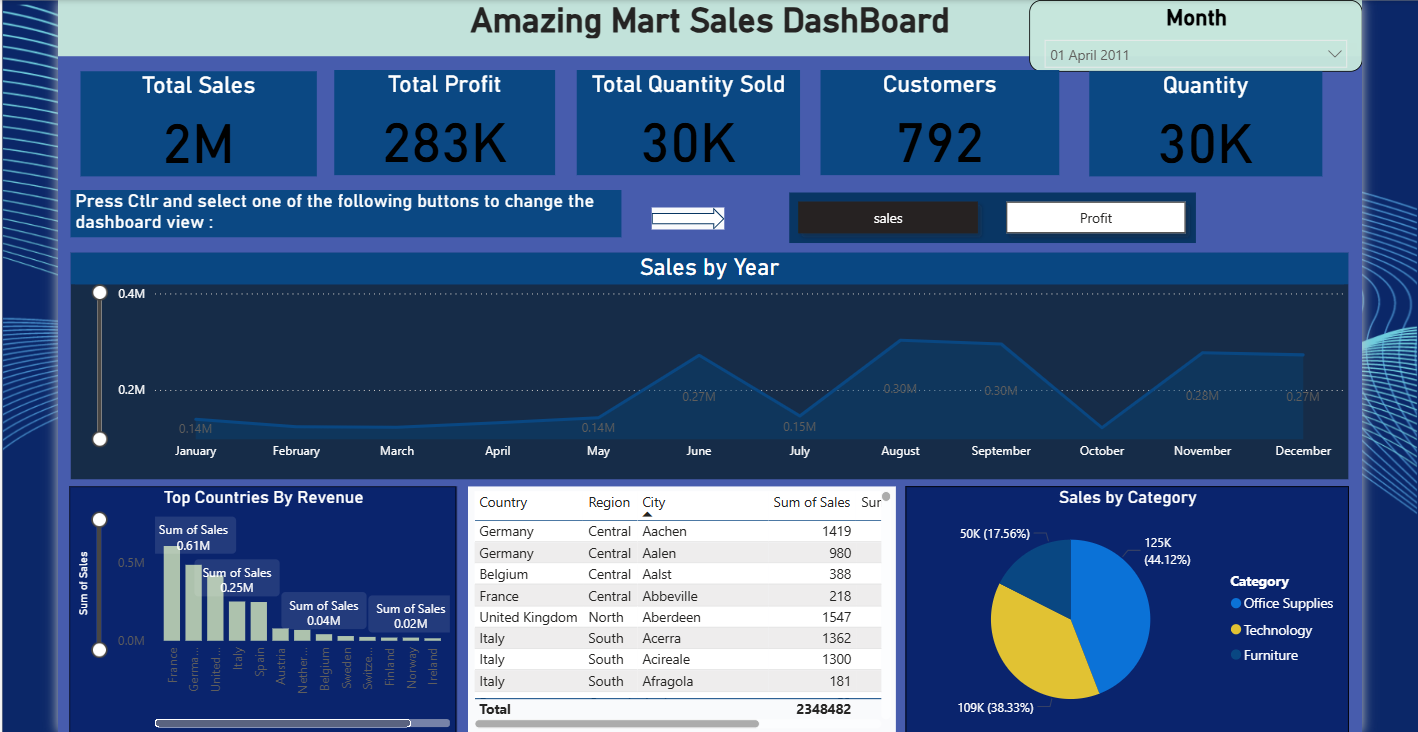

The dashboard page shown, as its layout file describes it:
{"tool":"powerbi","page":{"name":"sales","canvas":[1280,720],"ordinal":0},"visuals":[{"type":"textbox","title":"Amazing Mart Sales DashBoard ","box":[0,0,1280.3,54.9],"z":0},{"type":"slicer","title":"Month","fields":{"Values":["SalesTargets.Month of Order Date"]},"box":[952.9,0,327.1,70],"z":1000},{"type":"card","title":"Total Sales","fields":{"Values":["OrderBreakdown.Sales"]},"box":[22,70,231.9,102.9],"z":2000},{"type":"card","title":"Total Profit","fields":{"Values":["OrderBreakdown.Profit"]},"box":[271.7,68.6,216.8,102.9],"z":3000},{"type":"card","title":"Total Quantity Sold","fields":{"Values":["OrderBreakdown.Quantity"]},"box":[509.1,68.6,219.6,102.9],"z":4000},{"type":"card","title":"Customers","fields":{"Values":["ListOfOrders.Customer Name"]},"box":[748.6,68.6,234.3,102.9],"z":5000},{"type":"card","title":"Quantity","fields":{"Values":["OrderBreakdown.Quantity"]},"box":[1012.9,70,228.6,102.9],"z":6000},{"type":"stackedAreaChart","title":"Sales by Year","fields":{"Category":["ListOfOrders.Order Date.Variation.Date Hierarchy.Month"],"Y":["OrderBreakdown.Sales"]},"box":[12.3,248.4,1254.2,222.3],"z":7000},{"type":"columnChart","title":"Top Countries By Revenue","fields":{"Category":["ListOfOrders.Country"],"Y":["OrderBreakdown.Sales"]},"box":[11,477.5,380.1,242.9],"z":8000},{"type":"pieChart","title":"Sales by Category","fields":{"Category":["OrderBreakdown.Category"],"Y":["OrderBreakdown.Profit"]},"box":[831.6,477.5,435,242.9],"z":9000},{"type":"textbox","title":"Press Ctlr and select one of the following buttons to change the dashboard view :","box":[12.3,186.6,540.7,46.7],"z":10000},{"type":"shape","box":[583.2,203.1,71.4,22],"z":11000},{"type":"tableEx","fields":{"Values":["ListOfOrders.Country","ListOfOrders.Region","ListOfOrders.City","OrderBreakdown.Sales","OrderBreakdown.Profit","OrderBreakdown.Quantity"]},"box":[402.1,477.5,419.9,242.9],"z":12000},{"type":"pageNavigator","box":[717.7,189.4,399.3,49.4],"z":13000}]}

Visuals, with their boxes on the page's 1280x720 design canvas (x1, y1, x2, y2). These are canvas units, not pixel positions in the 1418x732 screenshot, which may show the page scaled, cropped or inside an application window:
"Amazing Mart Sales DashBoard " textbox: select_region(0, 0, 1280, 55)
"Month" slicer: select_region(953, 0, 1280, 70)
"Total Sales" card: select_region(22, 70, 254, 173)
"Total Profit" card: select_region(272, 69, 488, 172)
"Total Quantity Sold" card: select_region(509, 69, 729, 172)
"Customers" card: select_region(749, 69, 983, 172)
"Quantity" card: select_region(1013, 70, 1242, 173)
"Sales by Year" stackedAreaChart: select_region(12, 248, 1266, 471)
"Top Countries By Revenue" columnChart: select_region(11, 478, 391, 720)
"Sales by Category" pieChart: select_region(832, 478, 1267, 720)
"Press Ctlr and select one of the following buttons to change the dashboard view :" textbox: select_region(12, 187, 553, 233)
shape: select_region(583, 203, 655, 225)
tableEx - ListOfOrders.Country x ListOfOrders.Region: select_region(402, 478, 822, 720)
pageNavigator: select_region(718, 189, 1117, 239)
